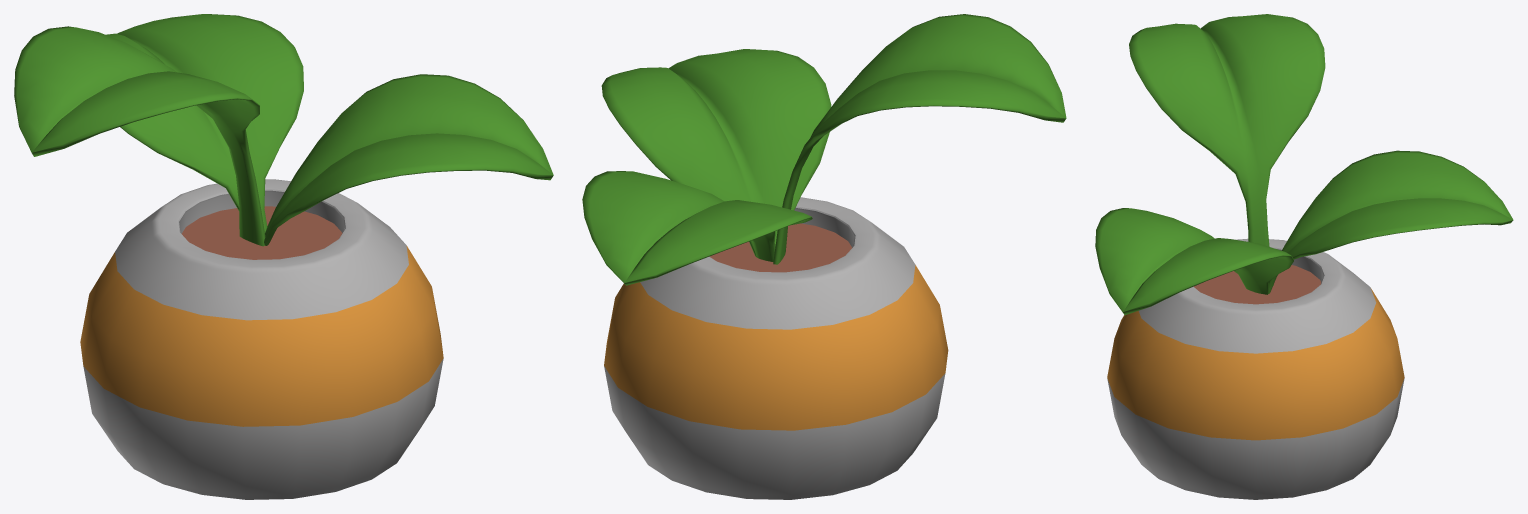
Rendered from Flovers.FBX.
3 renders of one model, left to right at view 1: azimuth 30°, elevation 25°; view 2: azimuth 150°, elevation 25°; view 3: azimuth 270°, elevation 25°, orthographic. The views are drawn at different scales.
Parts seen in each view (by area): view 1: Flovers; view 2: Flovers; view 3: Flovers.
Part boxes in pixels (x1,y1,x2,y2): Flovers: (14,14,553,499); Flovers: (582,14,1066,499); Flovers: (1095,14,1513,499).
Bounding box in the file's own units: 18.44 × 15.59 × 16.93.
